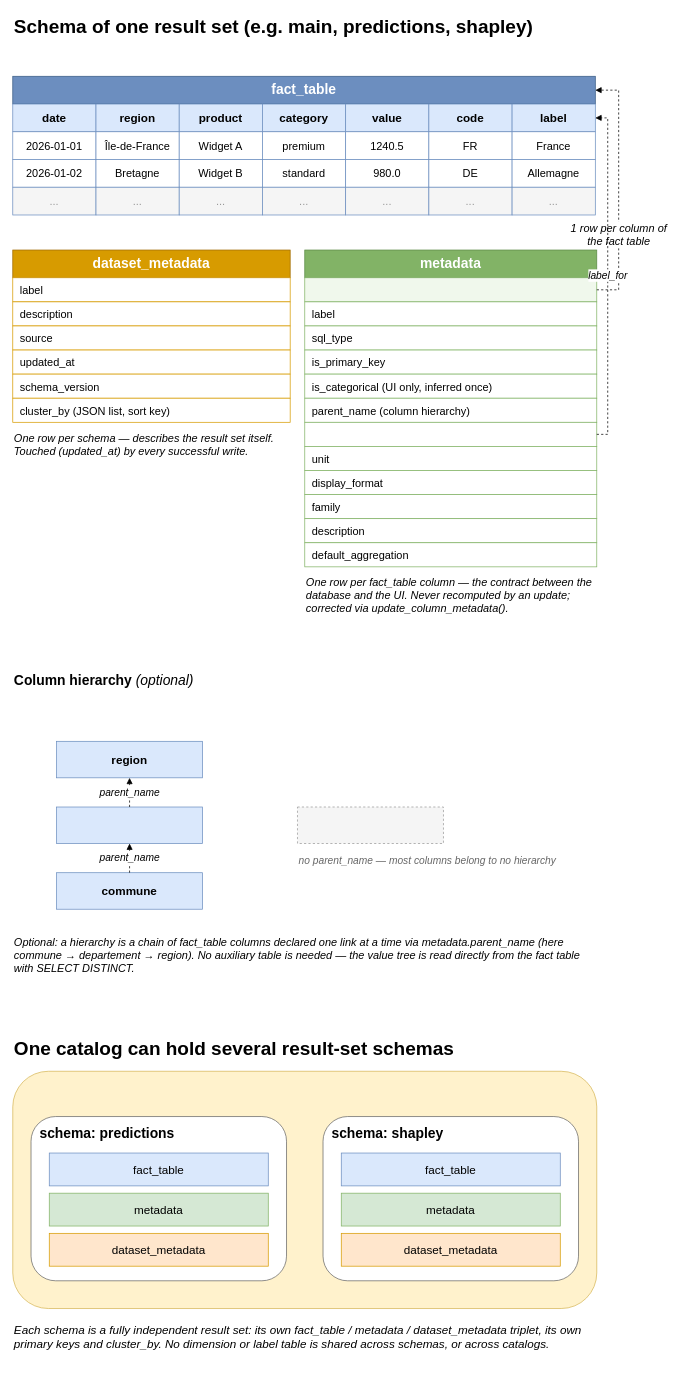
Image size: 680x1374. Some labels were removed from this diagram. The shapes that lost their labels are listed below. From the top down, each one's box as (x1, y1, x2, y2) in pixels, then its label:
(304, 277, 597, 302): name
(304, 422, 597, 446): label_for (code → label link)
(56, 806, 203, 844): departement
(297, 806, 443, 844): score
(12, 1071, 597, 1309): Catalog (e.g. results.ducklake)
